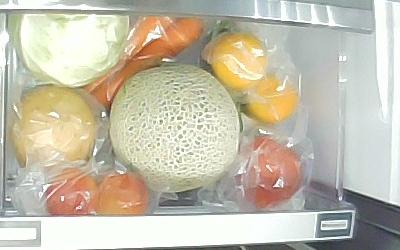cabbage: (7, 13, 130, 87)
carrot_vinyl: (95, 17, 204, 103), (84, 16, 176, 94)
melon: (109, 65, 240, 194)
pear_vinyl: (12, 88, 97, 172)
prune_vinyl: (45, 168, 100, 216), (93, 172, 149, 215)
tangerine_vinyl: (211, 33, 269, 90), (245, 75, 299, 124)
tomato_vinyl: (234, 135, 304, 209)
